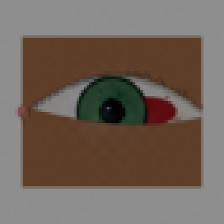hemorrhage_spot: (97, 74, 190, 148)
